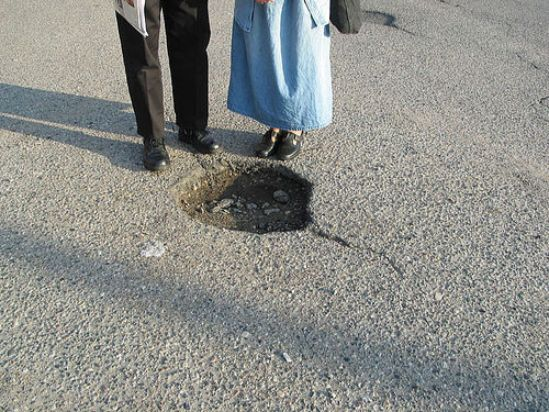pothole: (173, 156, 322, 235)
